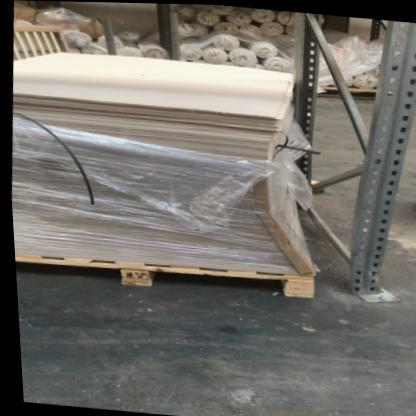vertical_damage: (334, 250, 409, 305)
